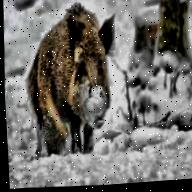boar: (1, 0, 159, 173)
